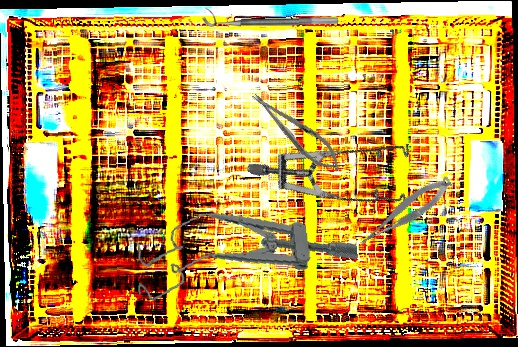Fixation Ring: (201, 5, 339, 28)
Micro Scissor: (351, 173, 458, 250)
Needle Holder: (245, 84, 348, 179)
Speculum: (244, 75, 436, 257), (129, 194, 361, 304)
